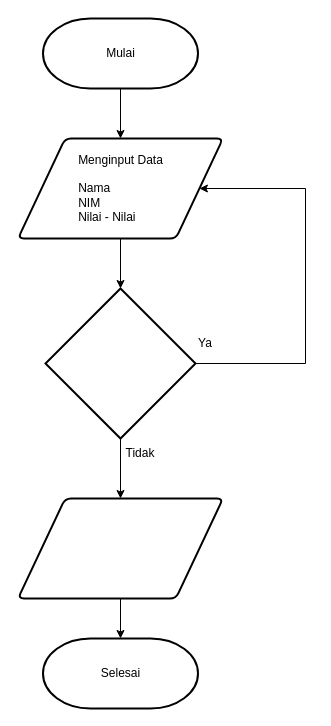
The diagram is 331 pixels wide and 726 high, and some of its shapes have lost their labels. Here are the shapes that lost their labels. From the top down, the box of each, then its label:
(44, 287, 196, 439): Apakah ingin menambahkan Data lagi?
(16, 497, 224, 599): Mencetak Data dengan Tabel
